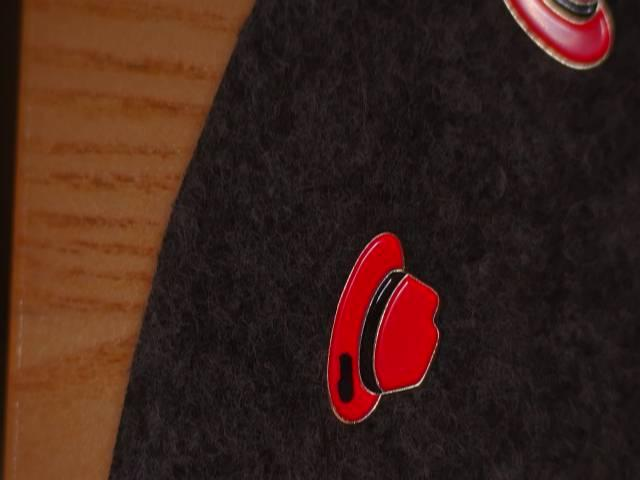Red-Hat: (309, 214, 453, 454), (487, 0, 635, 101)
Scratch: (324, 343, 368, 410)
